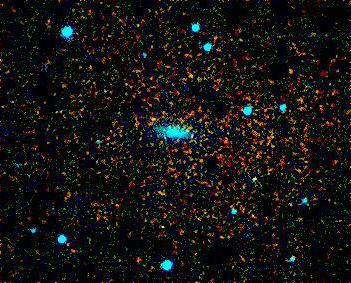star: (139, 104, 169, 134)
